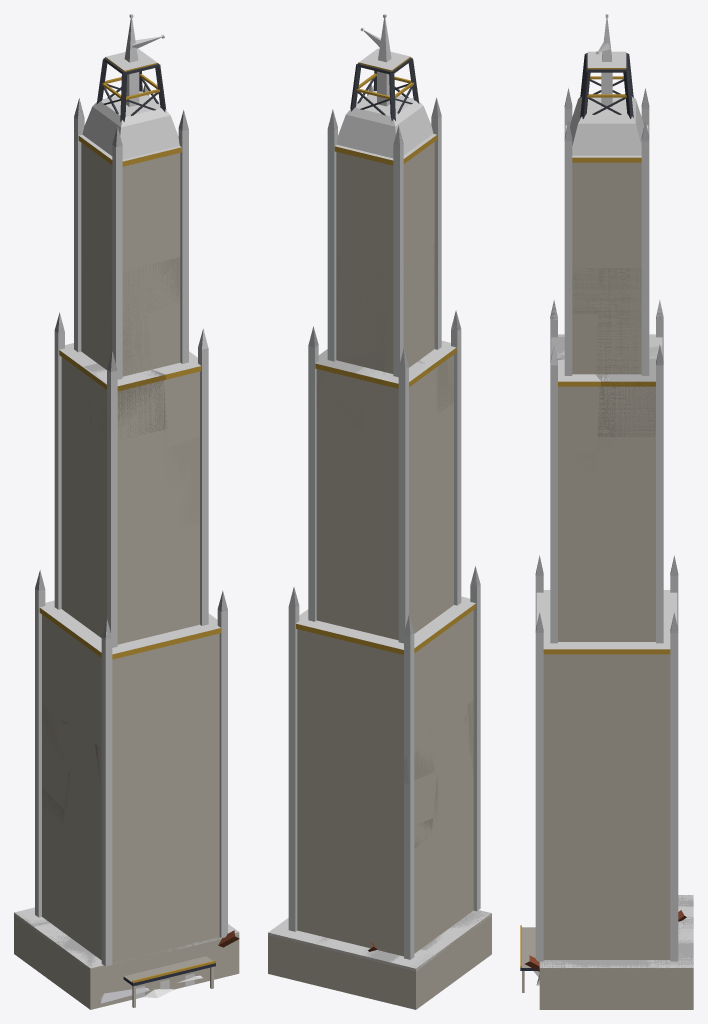
File: lm_meridian_tower.glb
3 views of the same model, side by side, from view 1: azimuth 30°, elevation 25°; view 2: azimuth 150°, elevation 25°; view 3: azimuth 270°, elevation 25° (orthographic).
Visible parts, largest first — view 1: damaged, intact, chunk_01, chunk_00, chunk_04, chunk_05, chunk_07, chunk_02, chunk_06, chunk_03, rubble; view 2: damaged, intact, chunk_00, chunk_01, chunk_05, chunk_04, chunk_07, chunk_06, chunk_03, chunk_02; view 3: damaged, intact, chunk_00, chunk_04, chunk_05, chunk_07, chunk_03, chunk_06, chunk_01.
Boxes of the visible parts, box(x1,y1,x2,y2) form: damaged: box(14, 34, 239, 1008); intact: box(14, 14, 238, 1009); chunk_01: box(42, 742, 219, 908); chunk_00: box(14, 863, 239, 1009); chunk_04: box(61, 439, 199, 587); chunk_05: box(61, 332, 199, 474); chunk_07: box(81, 91, 180, 241); chunk_02: box(42, 663, 219, 788); chunk_06: box(81, 217, 180, 356); chunk_03: box(42, 574, 219, 698); rubble: box(98, 930, 239, 1003); damaged: box(268, 28, 491, 1009); intact: box(297, 14, 491, 1008); chunk_00: box(268, 857, 491, 1009); chunk_01: box(297, 738, 473, 901); chunk_05: box(316, 330, 453, 470); chunk_04: box(316, 436, 453, 581); chunk_07: box(336, 91, 434, 239); chunk_06: box(336, 216, 434, 354); chunk_03: box(297, 548, 473, 698); chunk_02: box(297, 652, 473, 773); damaged: box(520, 43, 693, 1009); intact: box(522, 14, 693, 1009); chunk_00: box(539, 895, 693, 1009); chunk_04: box(558, 470, 655, 584); chunk_05: box(558, 354, 655, 470); chunk_07: box(570, 94, 643, 238); chunk_03: box(543, 584, 670, 697); chunk_06: box(572, 238, 641, 354); chunk_01: box(544, 787, 669, 905).
Size of the model in its own units: 36 by 220 by 36.
